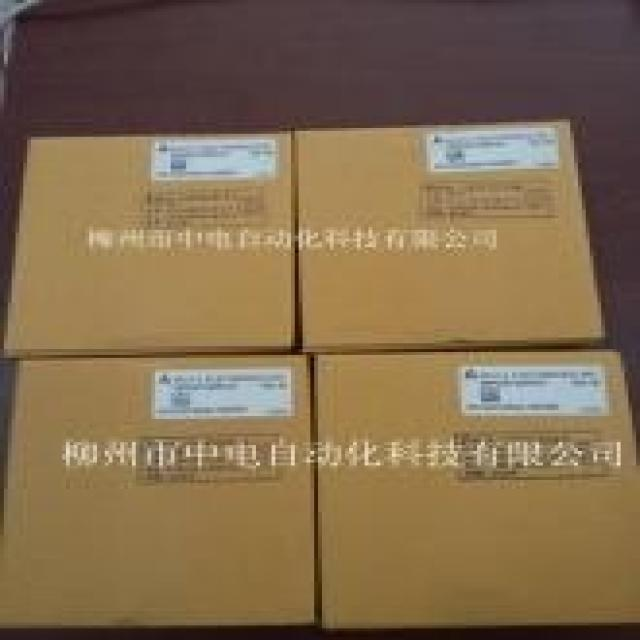box: (312, 348, 636, 627), (2, 353, 316, 628), (296, 123, 606, 353), (2, 130, 298, 357)
